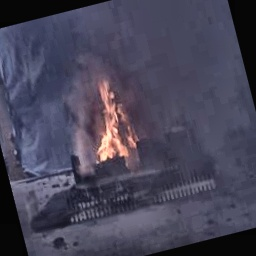fire: (80, 76, 141, 166)
